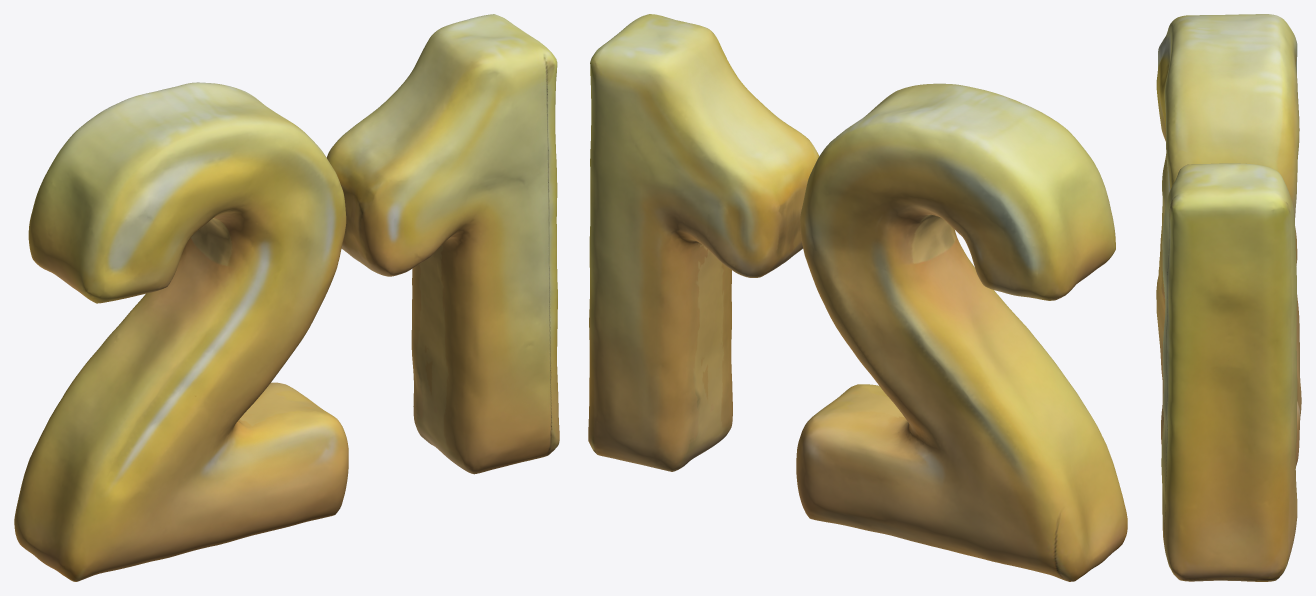
3 views of the same model, side by side, from view 1: azimuth 30°, elevation 25°; view 2: azimuth 150°, elevation 25°; view 3: azimuth 270°, elevation 25° (orthographic). The views are drawn at different scales.
Bounding box in the file's own units: 1.2 × 0.9918 × 0.3207.
Materials: 1 (1 with a texture image).
